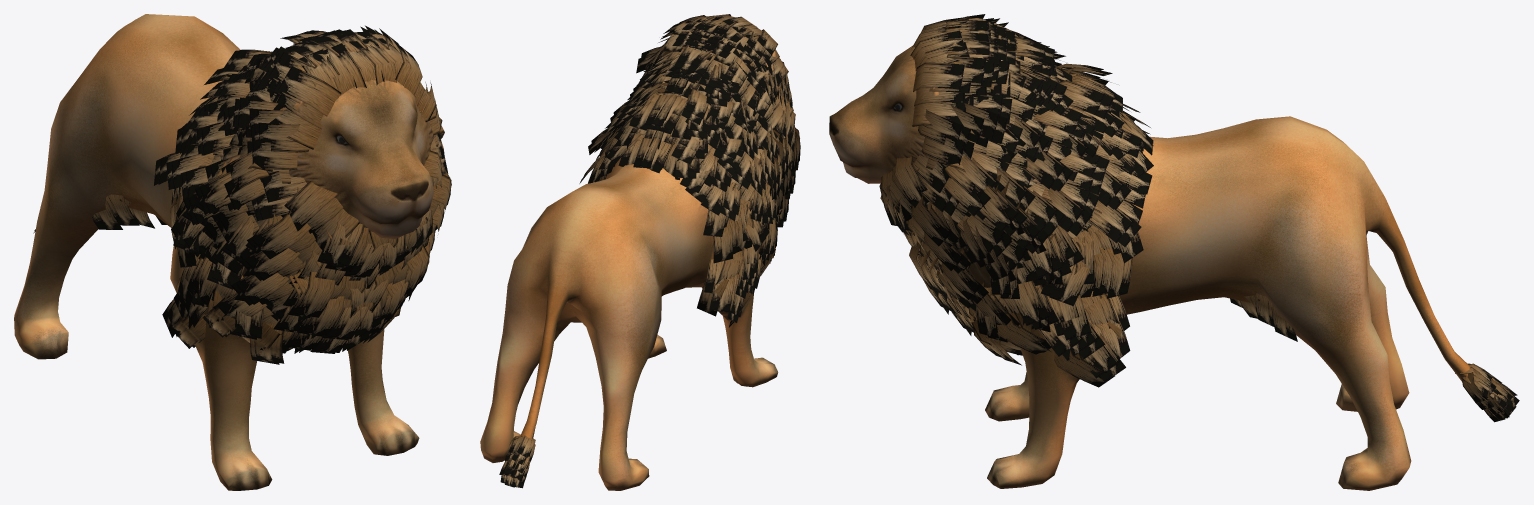
Rendered from leon.obj.
3 renders of one model, left to right at view 1: azimuth 30°, elevation 25°; view 2: azimuth 150°, elevation 25°; view 3: azimuth 270°, elevation 25°, orthographic. The views are drawn at different scales.
Visible parts, largest first — view 1: Object224; view 2: Object224; view 3: Object224.
Boxes of the visible parts, left/top/right/bottom form: Object224: left=14, top=14, right=451, bottom=490; Object224: left=480, top=14, right=800, bottom=490; Object224: left=829, top=14, right=1519, bottom=490.
Size of the model in its own units: 2.11 by 3.76 by 5.64.
Materials: 1 (1 with a texture image).
